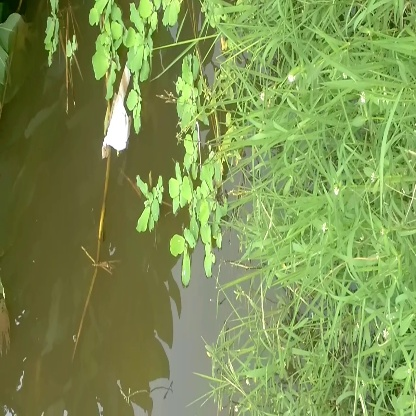plastic-bag: (94, 63, 142, 152)
